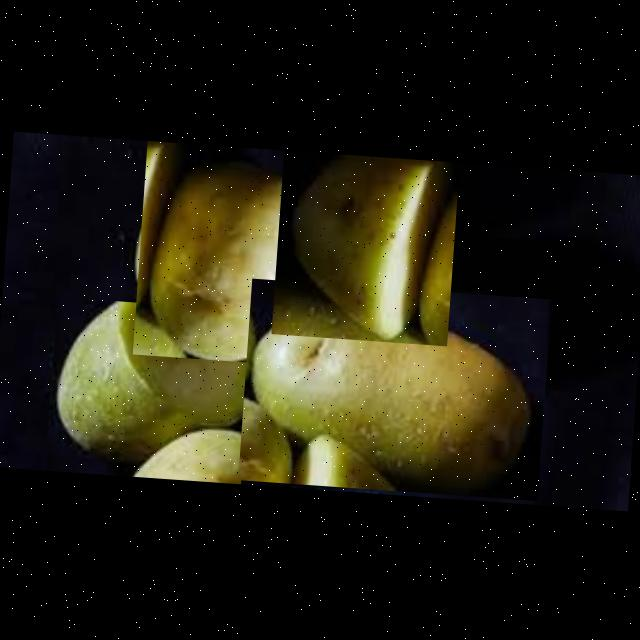Defected potato: (237, 278, 550, 500), (132, 140, 326, 366), (44, 296, 252, 482), (270, 149, 458, 345)
